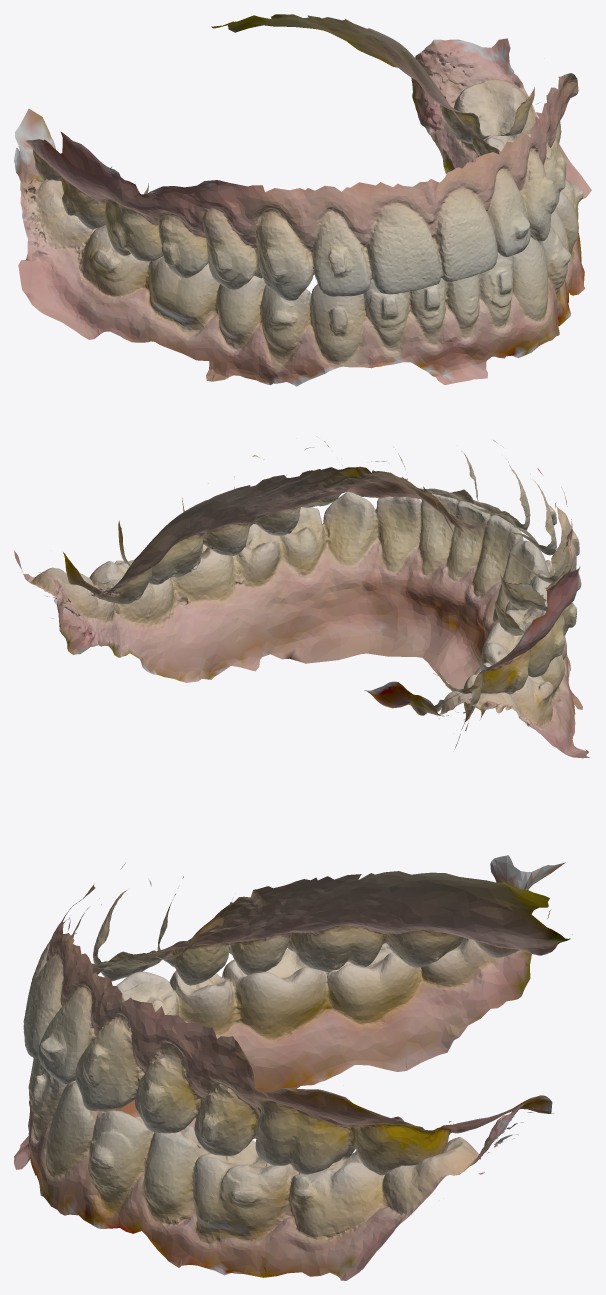
Rendered from arcadas.glb.
3 renders of one model, top to bottom at view 1: azimuth 30°, elevation 25°; view 2: azimuth 150°, elevation 25°; view 3: azimuth 270°, elevation 25°, orthographic. The views are drawn at different scales.
Visible parts, largest first — view 1: inferior, superior; view 2: inferior, superior; view 3: inferior, superior.
Boxes of the visible parts, left/top/right/bottom form: inferior: left=14, top=38, right=591, bottom=386; superior: left=25, top=14, right=578, bottom=300; inferior: left=14, top=491, right=589, bottom=758; superior: left=63, top=436, right=581, bottom=716; inferior: left=14, top=855, right=565, bottom=1280; superior: left=23, top=863, right=572, bottom=1175.
Size of the model in its own units: 0.0839 by 0.0311 by 0.0653.
